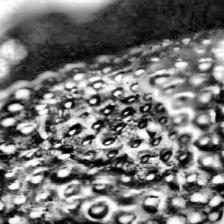Anthracnose Fruit Rot: (23, 64, 209, 191)
